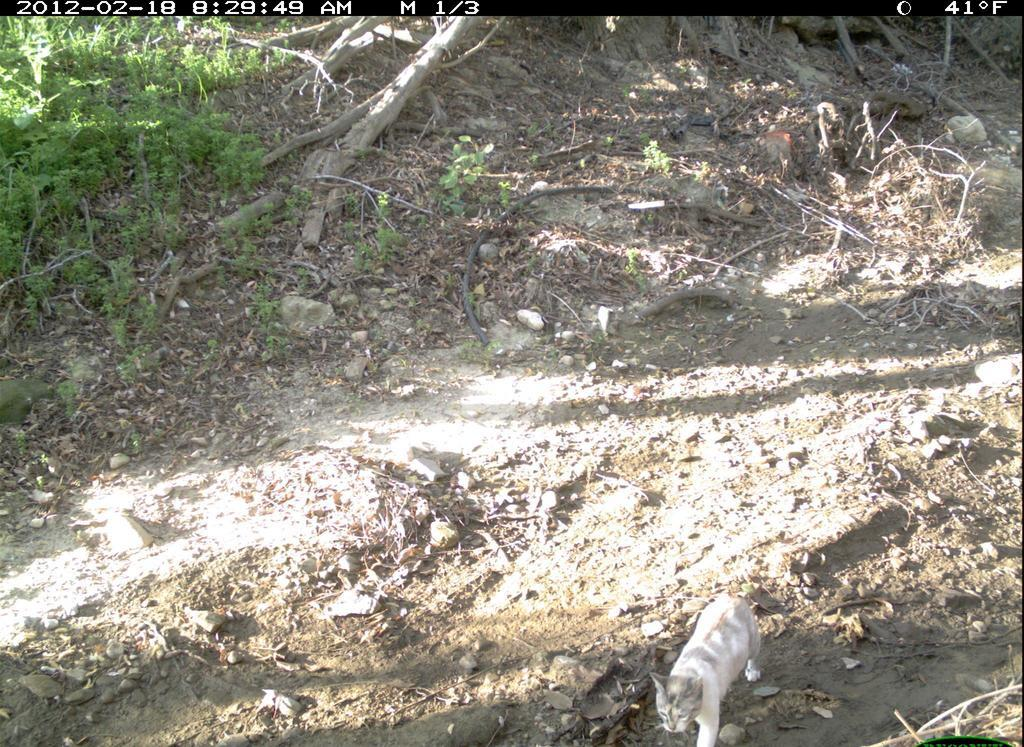cat: (648, 585, 772, 747)
